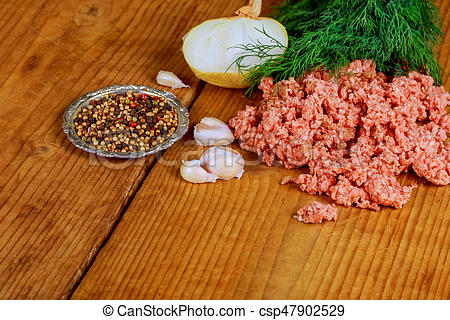ground_beef: (243, 77, 427, 194)
